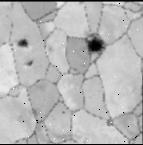good_void: (78, 31, 112, 61), (28, 107, 41, 119), (17, 38, 29, 50), (104, 116, 115, 128), (24, 59, 33, 66), (59, 109, 67, 115)
